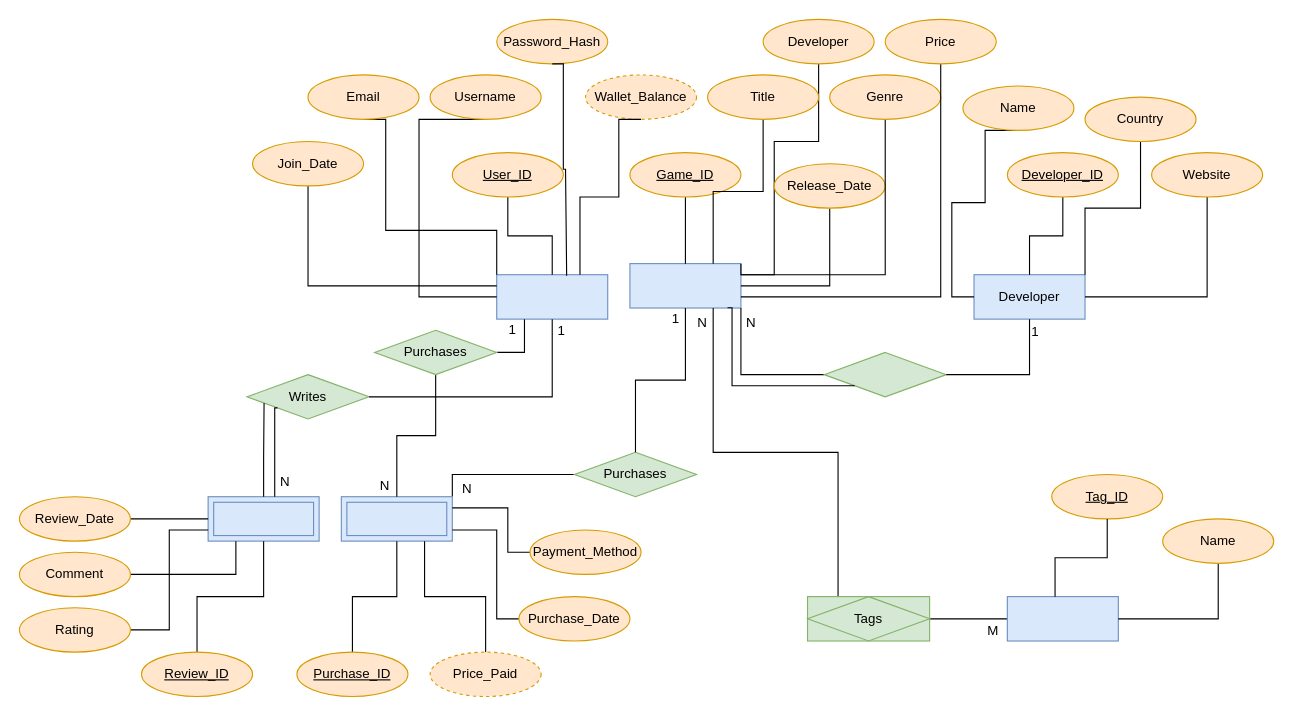
The diagram is 1293 pixels wide and 716 high, and some of its shapes have lost their labels. Each missing label, with the box of its shape:
Develops: (823, 351, 946, 397)
Game: (629, 263, 741, 308)
Purchase: (340, 496, 452, 541)
Review: (207, 496, 319, 541)
Tag: (1006, 596, 1118, 641)
User: (496, 274, 608, 319)
